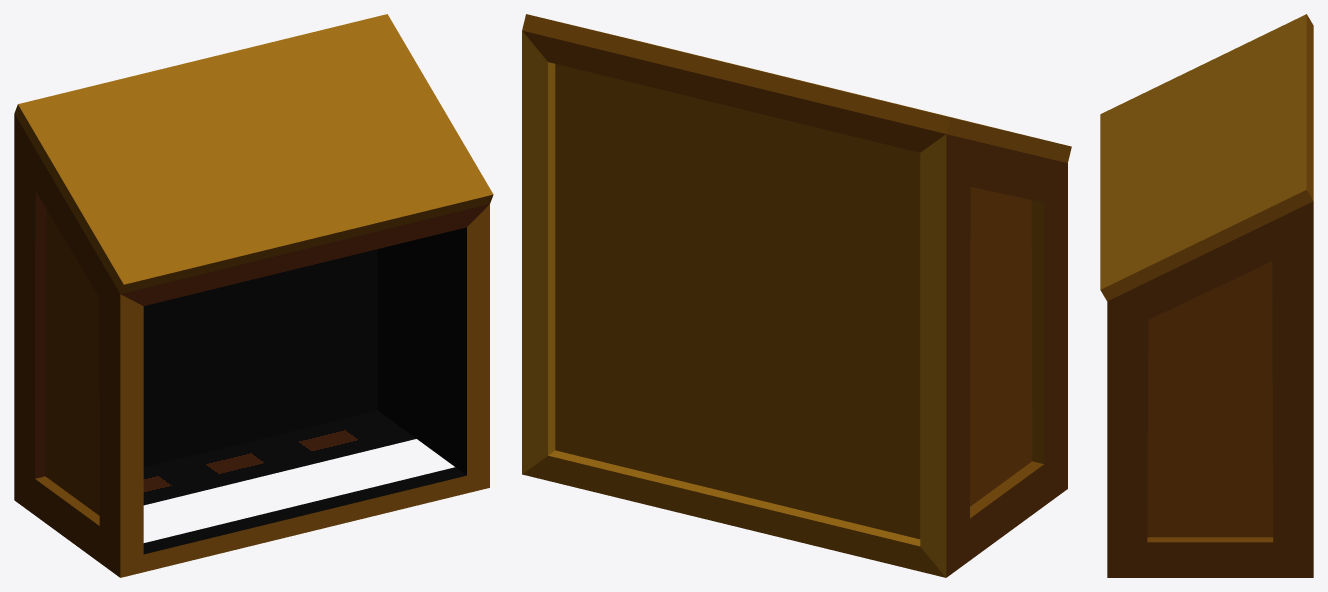
Rendered from podium_697.gltf.
3 renders of one model, left to right at view 1: azimuth 30°, elevation 25°; view 2: azimuth 150°, elevation 25°; view 3: azimuth 270°, elevation 25°, orthographic. The views are drawn at different scales.
Parts seen in each view (by area): view 1: podium_697; view 2: podium_697; view 3: podium_697.
Boxes of the visible parts, <box> form: podium_697: <box>14,14,493,577</box>; podium_697: <box>522,14,1071,577</box>; podium_697: <box>1100,14,1313,577</box>.
Size of the model in its own units: 2 by 2.06 by 1.03.
1 material, 1 textured.
